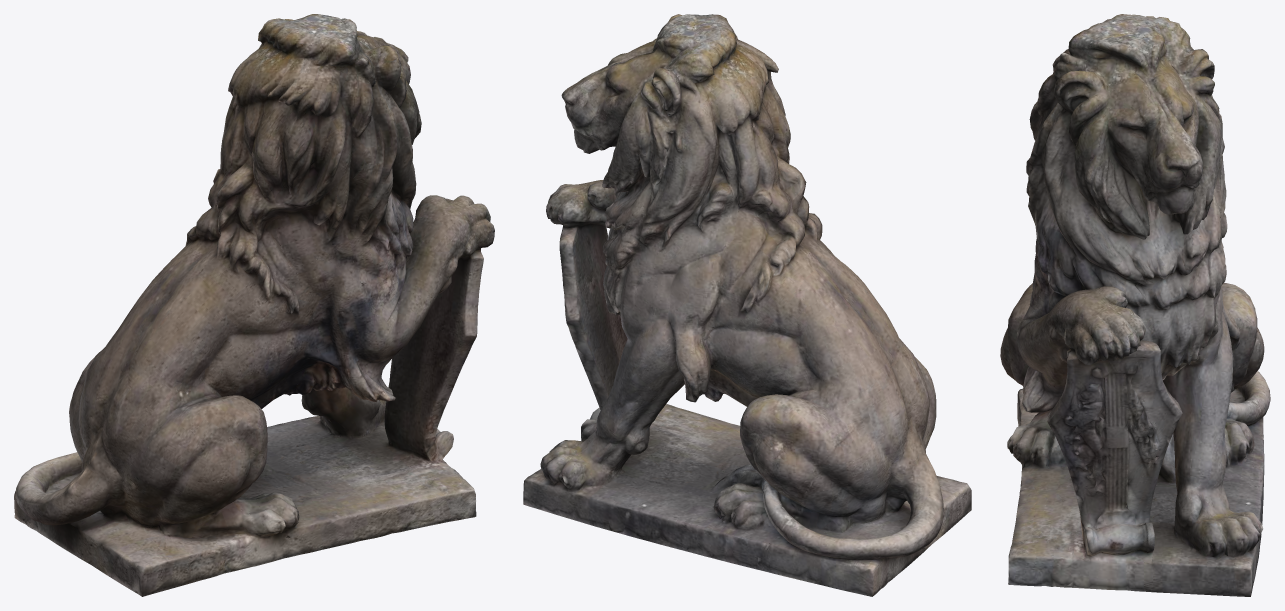
File: statue.glb
The picture shows the model from 3 angles, left to right: view 1: azimuth 30°, elevation 25°; view 2: azimuth 150°, elevation 25°; view 3: azimuth 270°, elevation 25°; orthographic projection. The views are drawn at different scales.
Parts seen in each view (by area): view 1: Object_2; view 2: Object_2; view 3: Object_2.
Part boxes in pixels (x1,y1,x2,y2): Object_2: [14, 14, 494, 596]; Object_2: [523, 14, 971, 596]; Object_2: [1000, 14, 1270, 596].
Size of the model in its own units: 3.13 by 3.38 by 1.62.
1 material, 1 textured.
